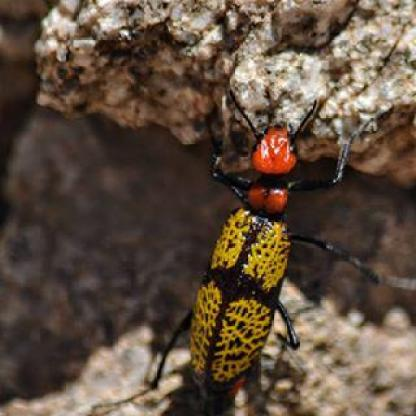beetle: (162, 89, 317, 408)
